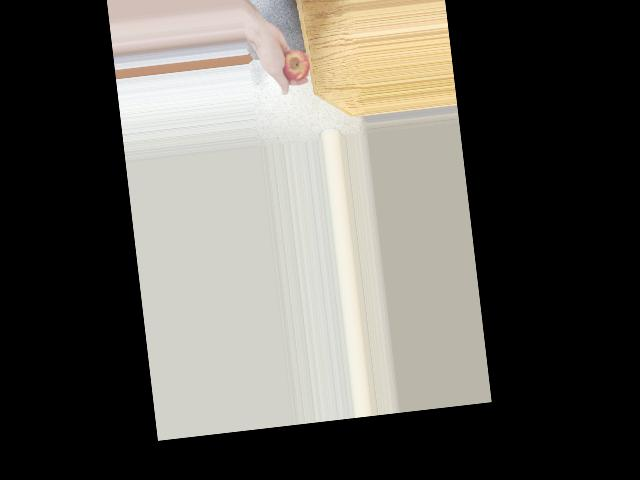apple: (278, 45, 312, 83)
